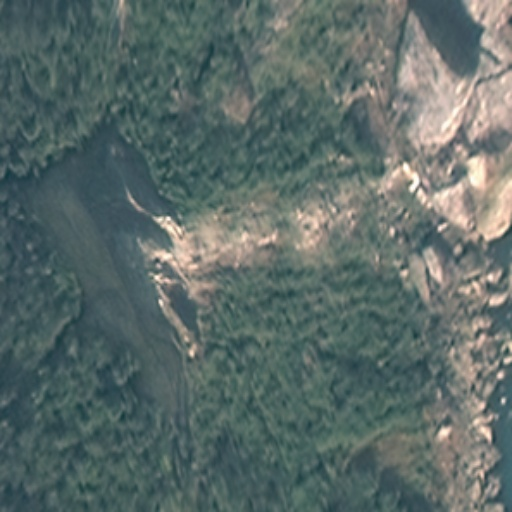landslide: (133, 190, 350, 306)
